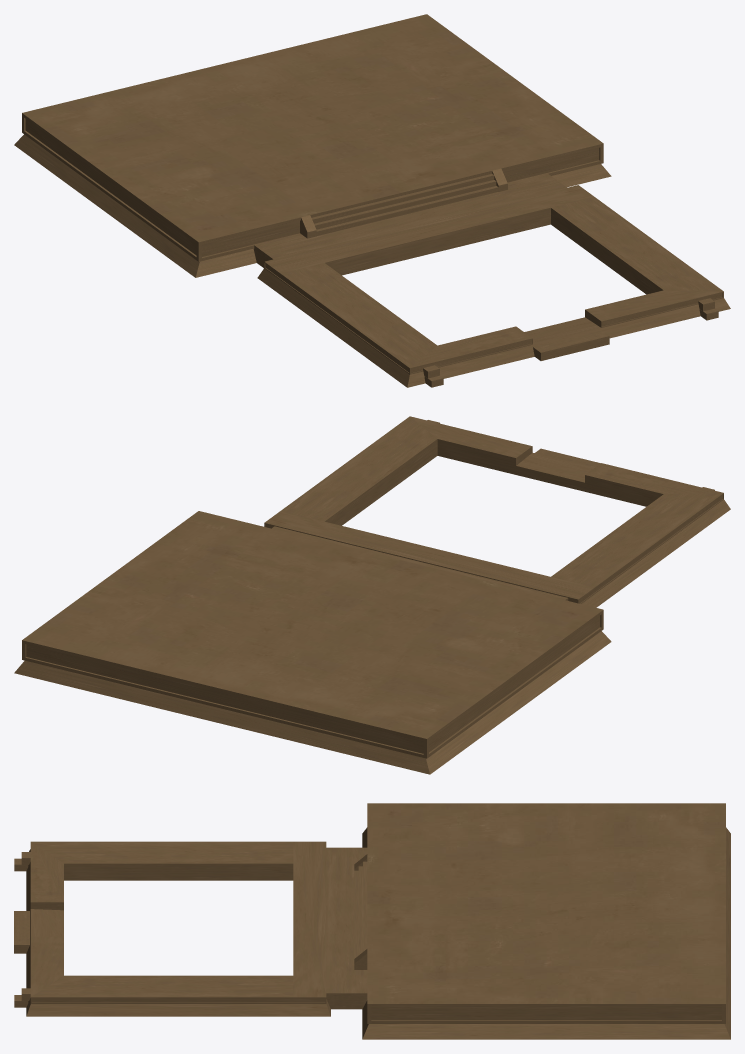
The model's file is palangana.obj.
3 views of the same model, one above another, from view 1: azimuth 30°, elevation 25°; view 2: azimuth 150°, elevation 25°; view 3: azimuth 270°, elevation 25° (orthographic).
Parts seen in each view (by area): view 1: tablero-1.1, palangana, Talud-1.2, pasillo, gradas, bloque-largo; view 2: tablero-1.1, palangana, Talud-1.2, pasillo; view 3: tablero-1.1, palangana, Talud-1.2, pasillo, gradas, bloque-largo.
Boxes of the visible parts, x1,y1,x2,y2 form: tablero-1.1: (22, 14, 603, 261); palangana: (257, 185, 730, 387); Talud-1.2: (14, 134, 611, 277); pasillo: (253, 173, 566, 267); gradas: (311, 174, 498, 235); bloque-largo: (533, 330, 609, 360); tablero-1.1: (22, 511, 603, 758); palangana: (264, 416, 730, 607); Talud-1.2: (14, 631, 611, 774); pasillo: (272, 526, 568, 600); tablero-1.1: (367, 803, 725, 1023); palangana: (26, 841, 330, 1016); Talud-1.2: (362, 827, 730, 1039); pasillo: (326, 847, 367, 1009); gradas: (354, 861, 367, 958); bloque-largo: (14, 911, 29, 953).
Size of the model in its own units: 33.6 by 2.51 by 49.4.
